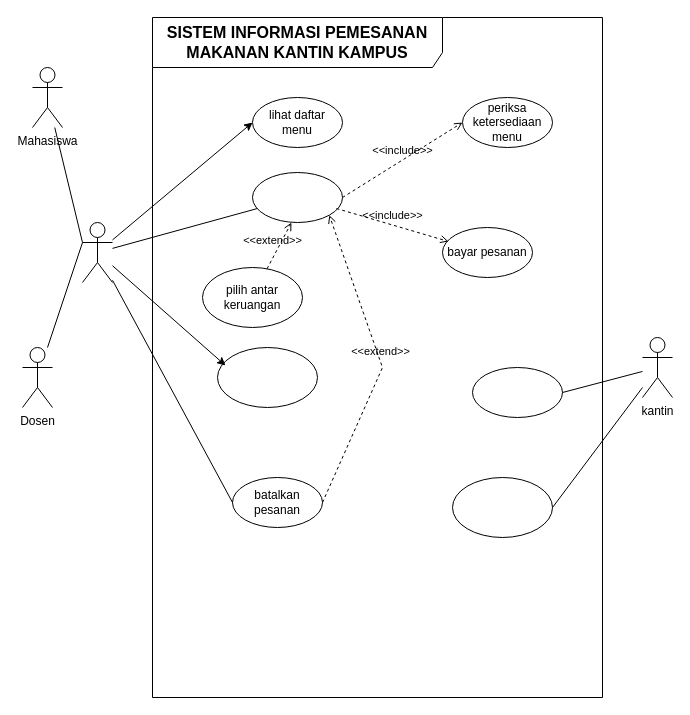
This 690x715 diagram has some shape labels left out. Here are the shapes that lost their labels. From the top down, the box of each, then its label:
(252, 172, 342, 222): pesan makanan
(82, 222, 112, 282): Pelangggan
(216, 346, 318, 408): mengambil sendiri pesanan
(472, 366, 562, 418): Kelola data menu
(452, 476, 552, 538): melihat laporan penjualan
